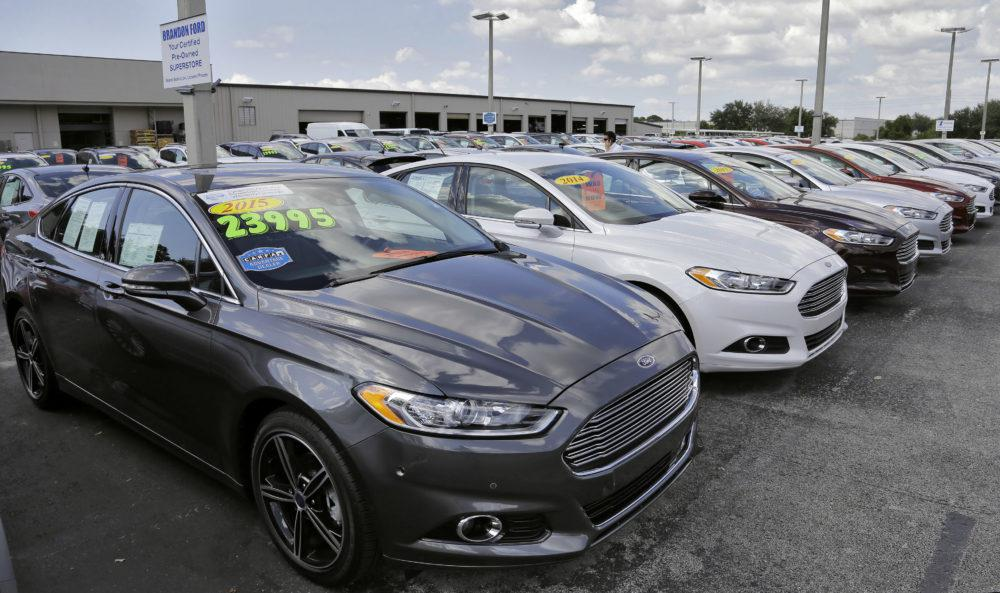car: (22, 175, 734, 574), (367, 136, 848, 369), (599, 148, 922, 304), (774, 136, 957, 262), (844, 144, 979, 240), (916, 156, 996, 226)
